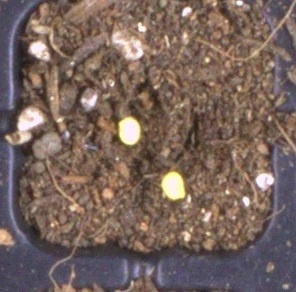chilli seed: (160, 170, 186, 200), (118, 116, 141, 145)
